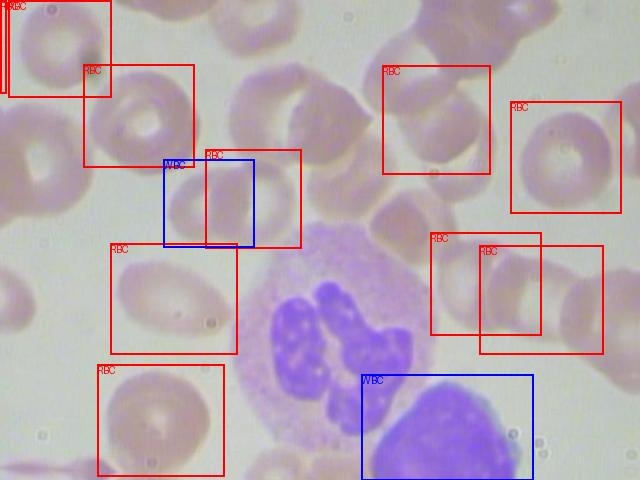RBC: (97, 364, 224, 476), (110, 243, 237, 354), (479, 245, 603, 354), (510, 101, 621, 213), (382, 65, 490, 174), (83, 64, 194, 167), (430, 232, 541, 335), (8, 0, 111, 97), (205, 149, 301, 248), (0, 0, 6, 93)
WBC: (361, 374, 533, 480), (163, 159, 254, 247)
